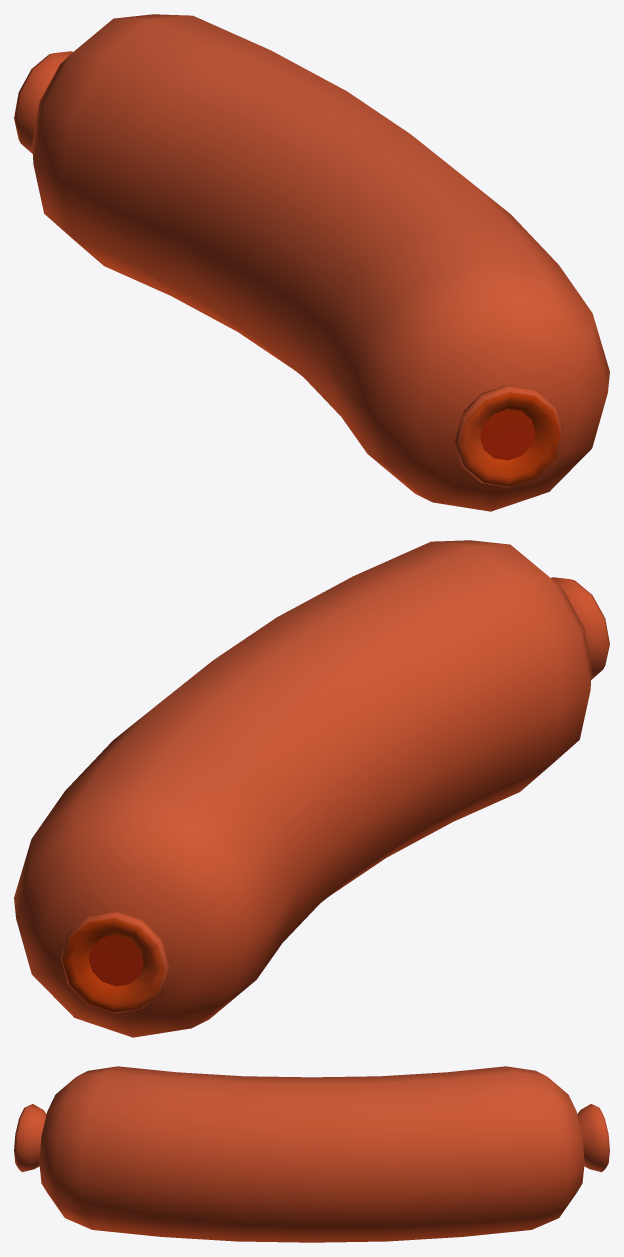
Rendered from Sausage_V1_00.fbx.
3 views of the same model, one above another, from view 1: azimuth 30°, elevation 25°; view 2: azimuth 150°, elevation 25°; view 3: azimuth 270°, elevation 25° (orthographic). The views are drawn at different scales.
Parts seen in each view (by area): view 1: Sausage_V1_00; view 2: Sausage_V1_00; view 3: Sausage_V1_00.
Boxes of the visible parts, left/top/right/bottom form: Sausage_V1_00: left=14, top=14, right=609, bottom=511; Sausage_V1_00: left=14, top=540, right=609, bottom=1037; Sausage_V1_00: left=14, top=1066, right=609, bottom=1242.
Bounding box in the file's own units: 18.36 × 15.97 × 57.34.
